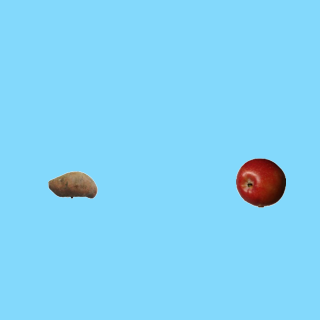Apple Braeburn: (235, 157, 285, 207)
Potato Sweet: (47, 159, 97, 209)
